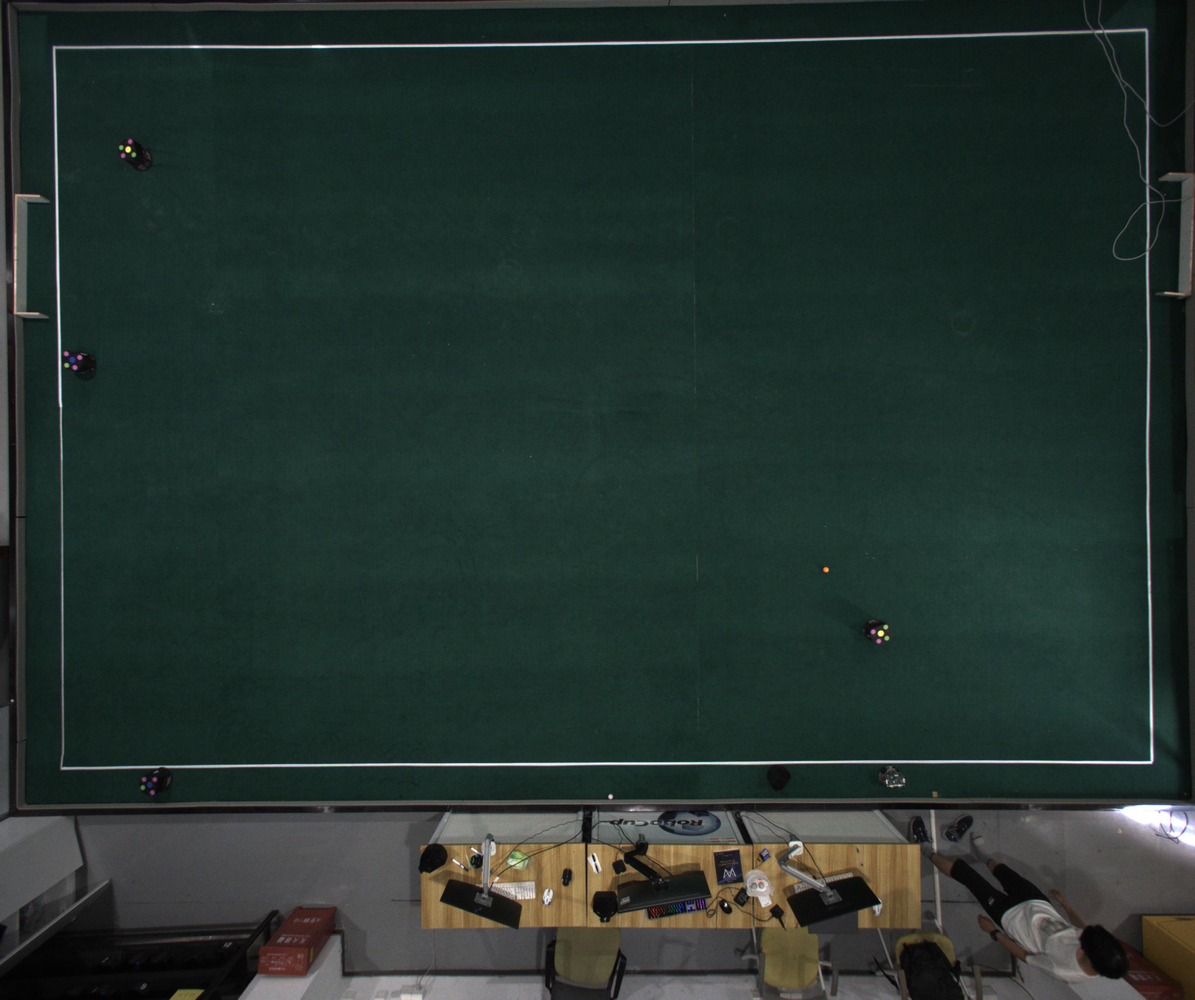ball: (822, 566, 830, 573)
blue_bot: (63, 350, 84, 371), (140, 774, 160, 796)
yellow_bot: (119, 138, 138, 160), (870, 625, 891, 644)
